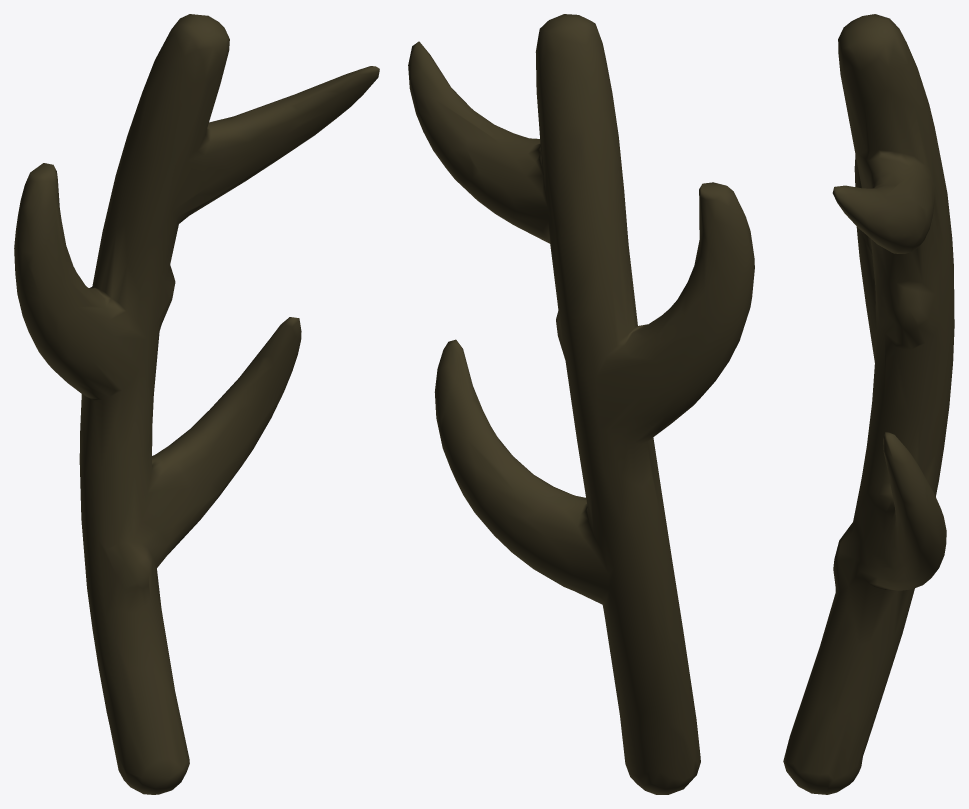
File: ss_stalk2.gltf
3 renders of one model, left to right at view 1: azimuth 30°, elevation 25°; view 2: azimuth 150°, elevation 25°; view 3: azimuth 270°, elevation 25°, orthographic. The views are drawn at different scales.
Visible parts, largest first — view 1: Layer_1.002; view 2: Layer_1.002; view 3: Layer_1.002.
Boxes of the visible parts, x1,y1,x2,y2 form: Layer_1.002: (14, 14, 379, 794); Layer_1.002: (408, 14, 754, 794); Layer_1.002: (783, 14, 954, 794).
Bounding box in the file's own units: 0.7888 × 1.63 × 0.3123.
